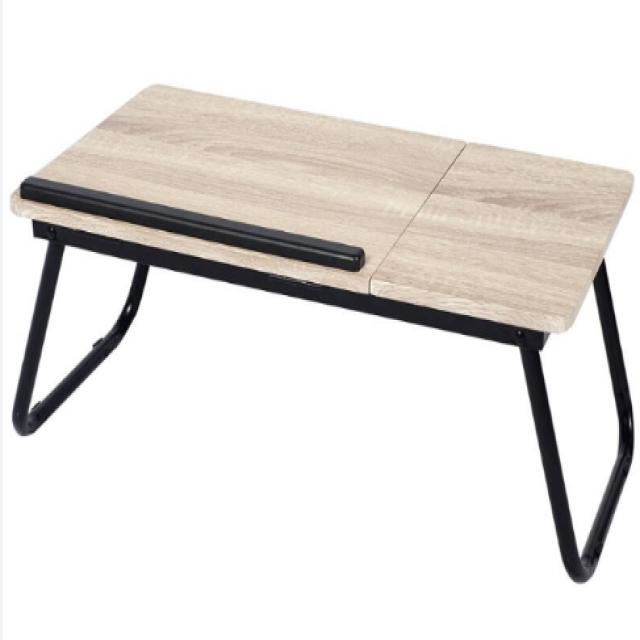table: (6, 69, 640, 593)
